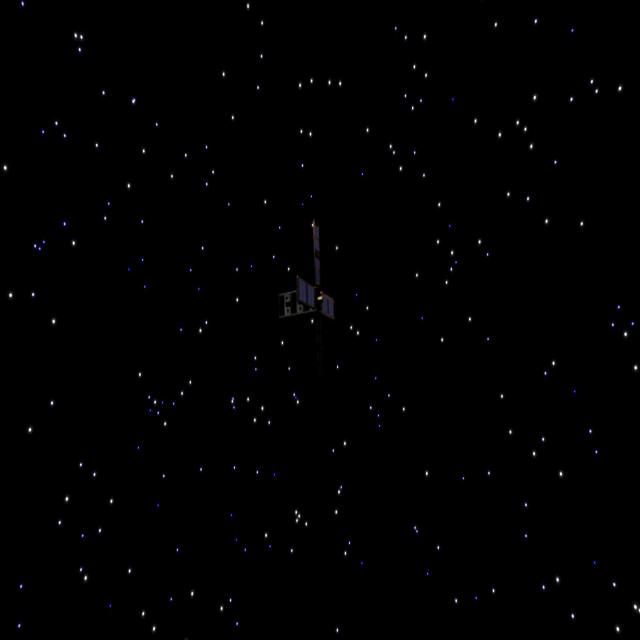medium_debris: (260, 217, 382, 344)
